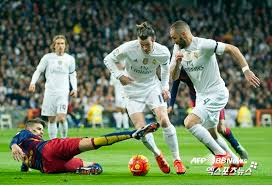barcelona: (8, 119, 163, 177)
realmadrid: (168, 23, 258, 174), (99, 25, 186, 179), (21, 35, 85, 144)
